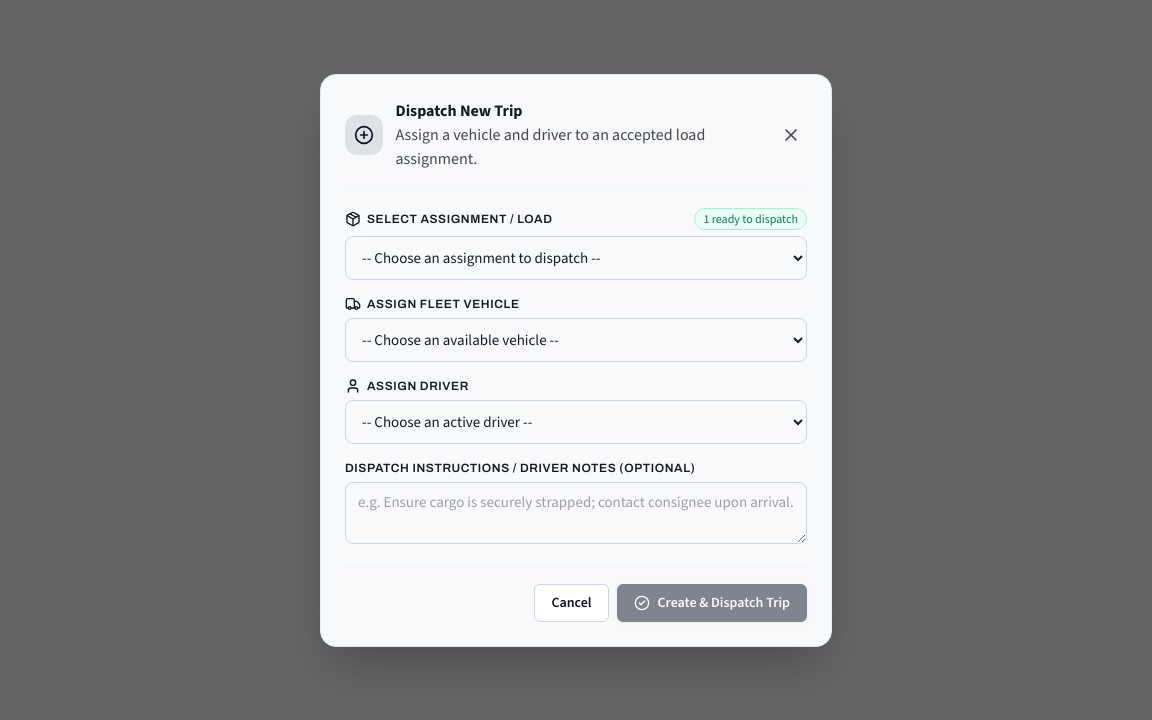
Test: CreateTripDialog › shows load preview card when an assignment is selected
Select "[LD-2026-001] Colombo Port ➔ Kandy Goods Yard • Electronic Components ($1,250)" in the dropdown named "select assignment" at (576, 258), box x1=345 y1=236 x2=807 y2=280
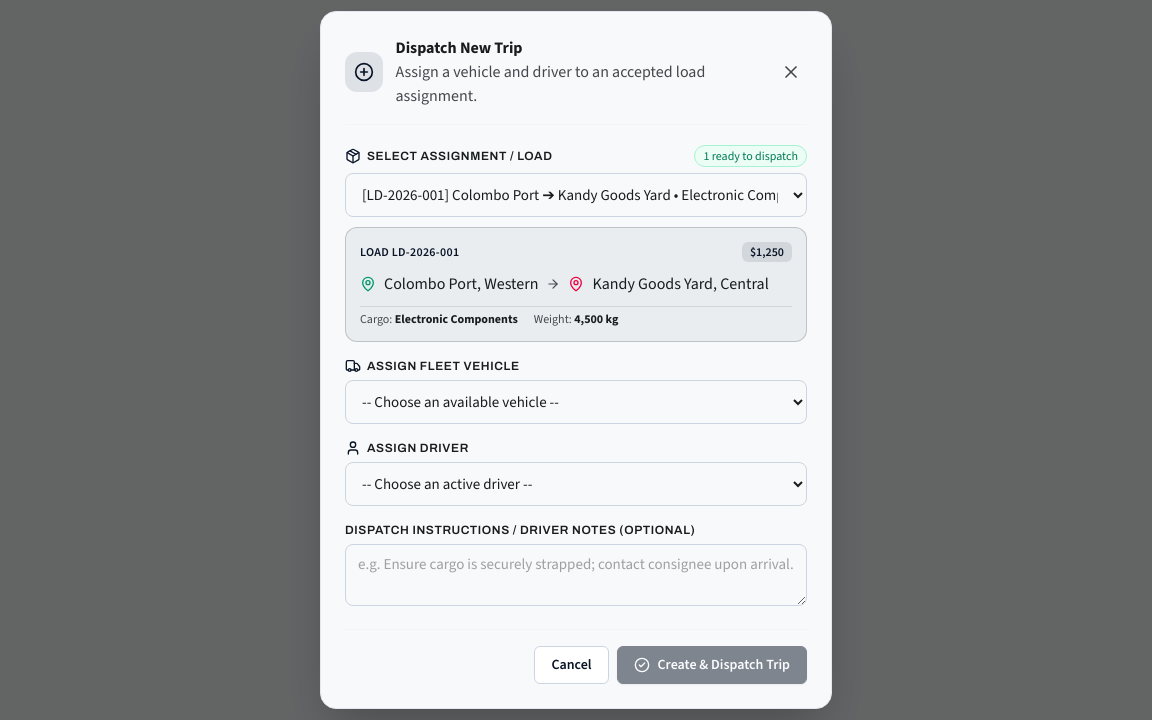
Expected: the text "LOAD LD-2026-001" is shown, x1=360 y1=244 x2=459 y2=260
Expected: the text "Colombo Port, Western" is shown, x1=384 y1=272 x2=538 y2=296
Expected: the text "Kandy Goods Yard, Central" is shown, x1=592 y1=272 x2=769 y2=296
